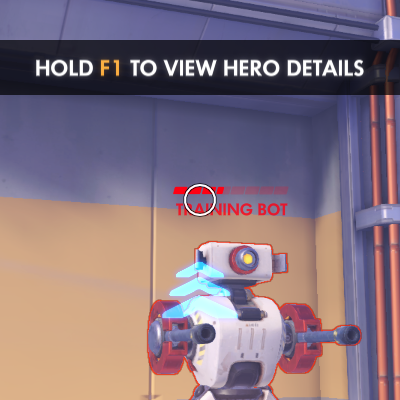hpbar: (173, 186, 289, 195)
